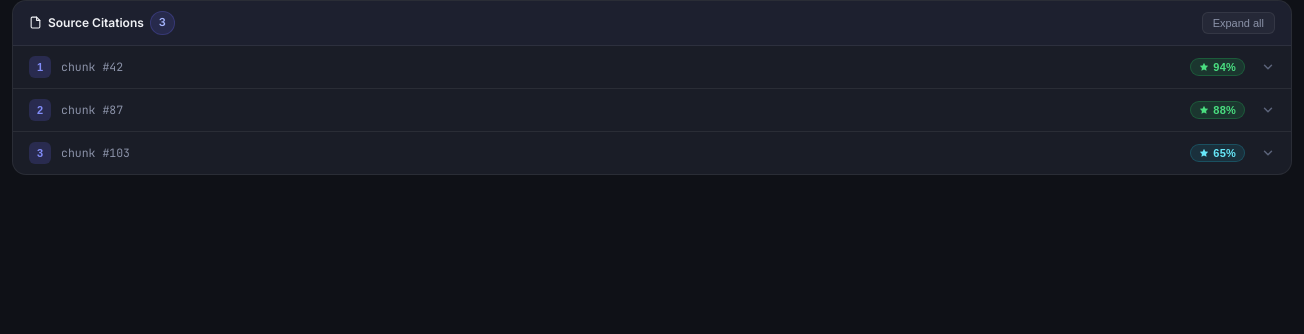
CitationList Component › collapses all cards when "Collapse all" is clicked
Expand all
Click the button "Expand all" at (1238, 23), box [1202,12,1275,34]
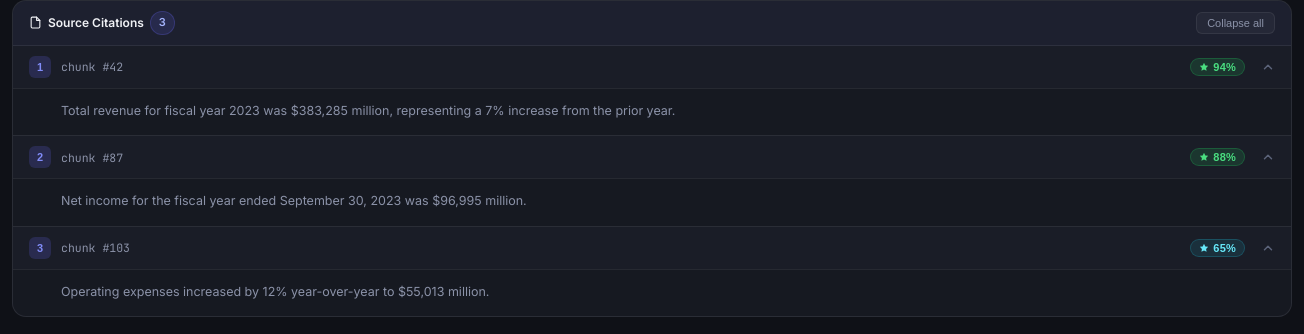
Collapse all
Click the button "Collapse all" at (1236, 23), box [1196,12,1275,34]
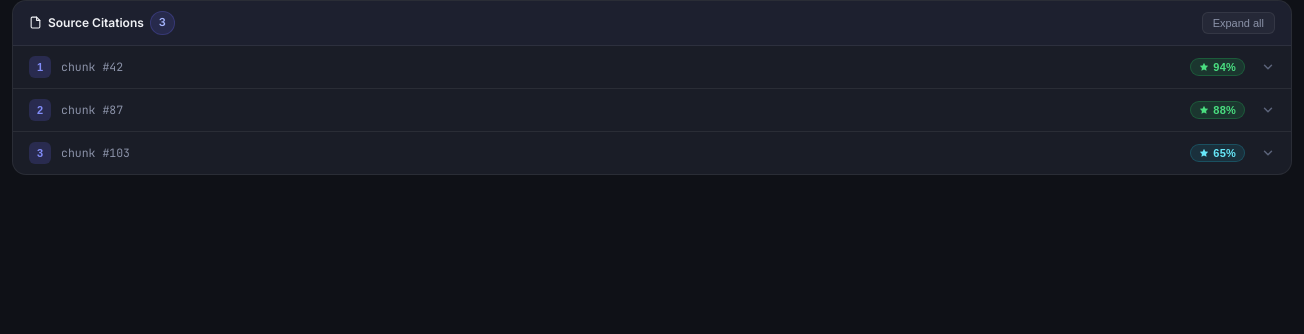
expect the text "Total revenue for fiscal year 2023" is gone: met
expect the text "Net income for the fiscal year" is gone: met
expect the text "Operating expenses increased" is gone: met
